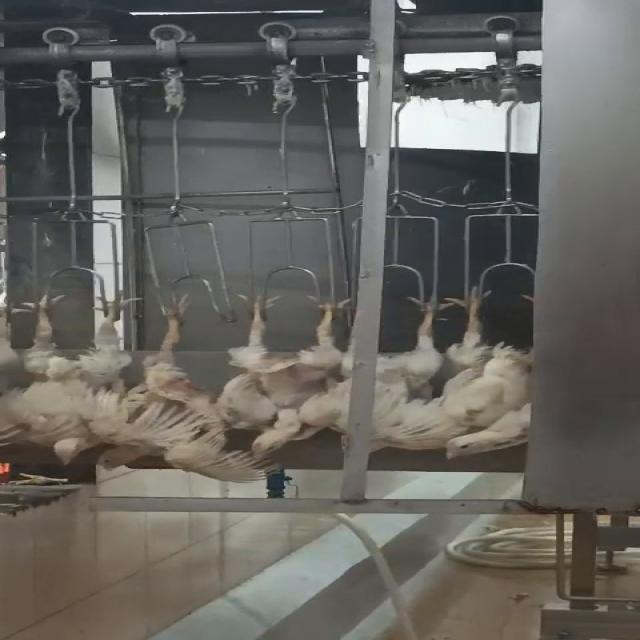chicken: (107, 290, 245, 478), (0, 288, 139, 468), (222, 292, 347, 456), (439, 284, 547, 464), (370, 292, 453, 454)
